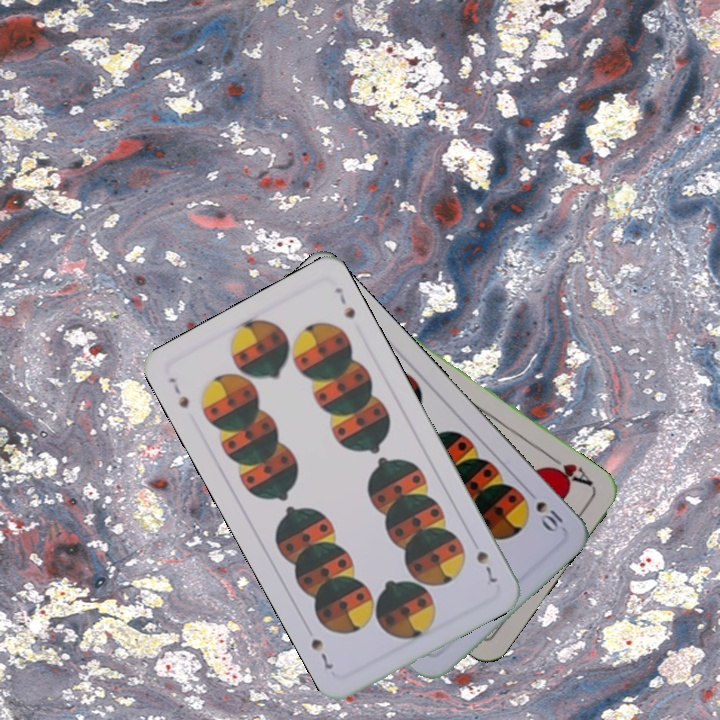HA: (542, 450, 596, 489)
S10: (531, 497, 568, 536)
S7: (472, 547, 500, 586), (164, 373, 192, 411)
